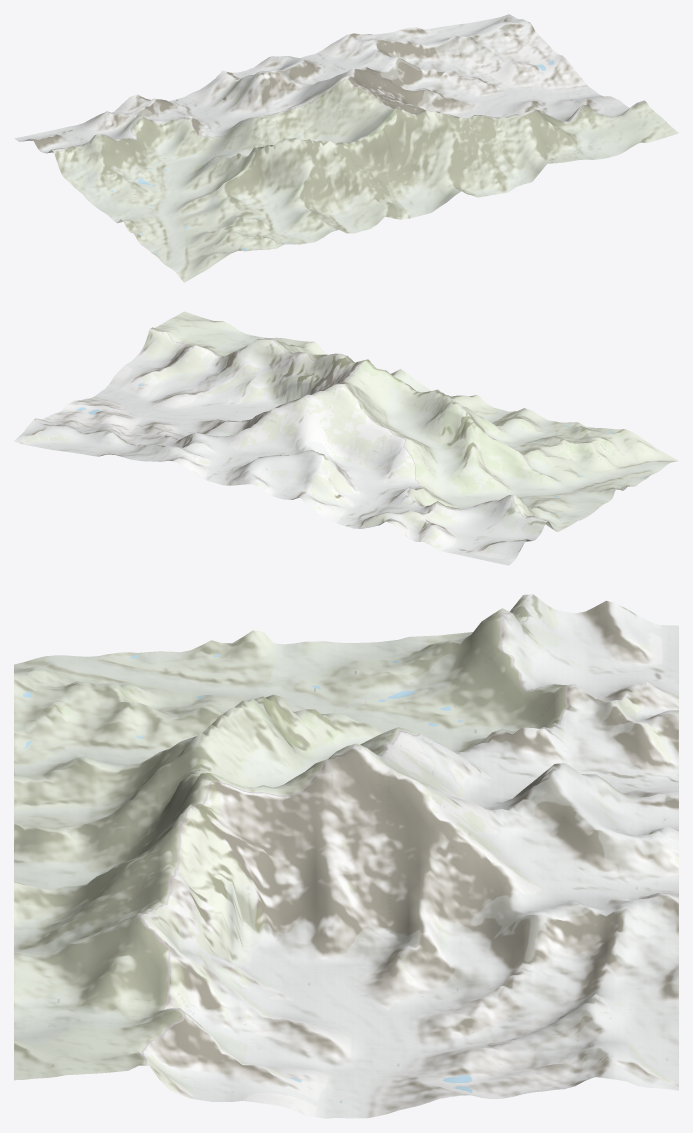
Rendered from mount_everest_topo_map.glb.
The picture shows the model from 3 angles, top to bottom: view 1: azimuth 30°, elevation 25°; view 2: azimuth 150°, elevation 25°; view 3: azimuth 270°, elevation 25°; orthographic projection. The views are drawn at different scales.
Parts seen in each view (by area): view 1: skfb_offset; view 2: skfb_offset; view 3: skfb_offset.
Part boxes in pixels (bbox=[...]): skfb_offset: bbox=[14, 14, 678, 282]; skfb_offset: bbox=[14, 311, 678, 565]; skfb_offset: bbox=[14, 594, 678, 1118].
Size of the model in its own units: 257 by 39.89 by 153.
Materials: 1 (1 with a texture image).
